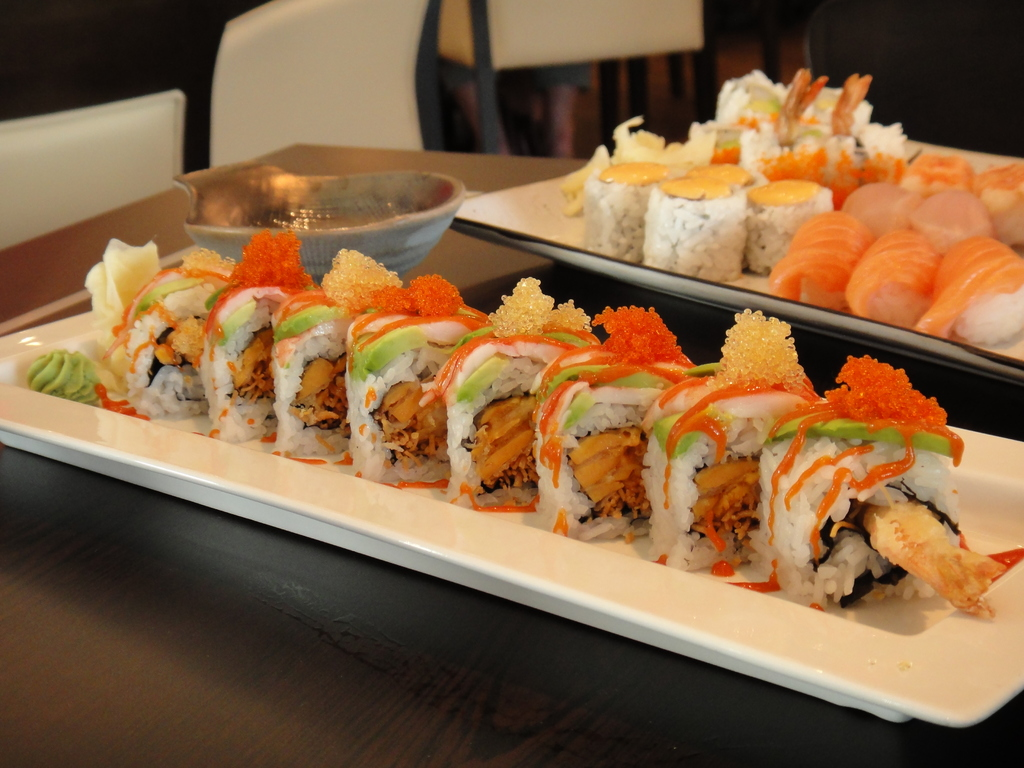sushi: (84, 234, 1016, 614), (567, 64, 1023, 349), (422, 289, 611, 502)
